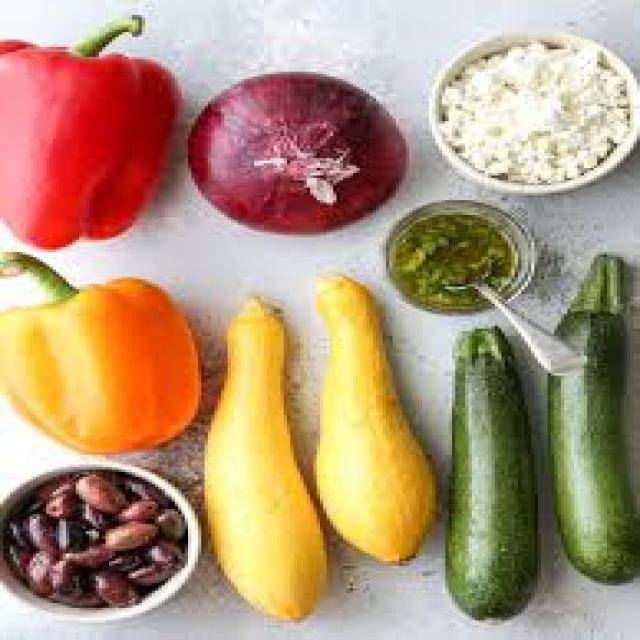Zucchini: (443, 333, 547, 621)
